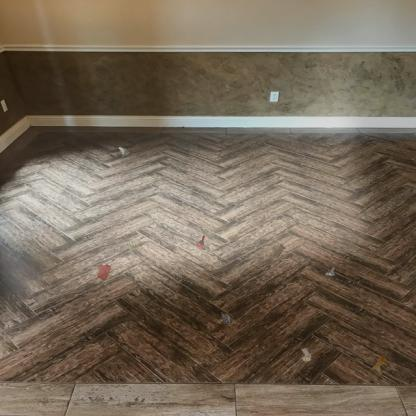dirty: (268, 242, 286, 260), (194, 234, 208, 250), (299, 346, 312, 362), (117, 146, 130, 158), (126, 241, 141, 250), (324, 266, 336, 277), (220, 312, 230, 324)
liquid: (371, 354, 388, 376), (96, 263, 112, 282)
